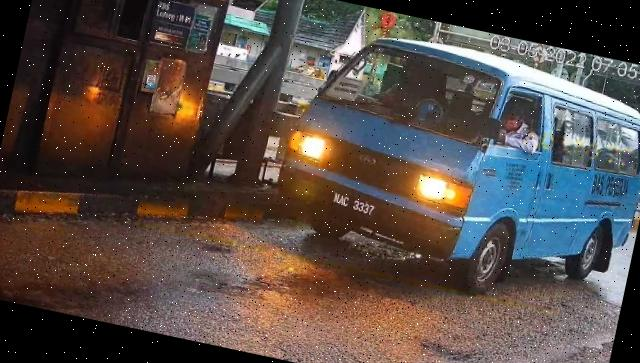License_Plate: (327, 188, 378, 222)
van: (265, 17, 640, 322)
